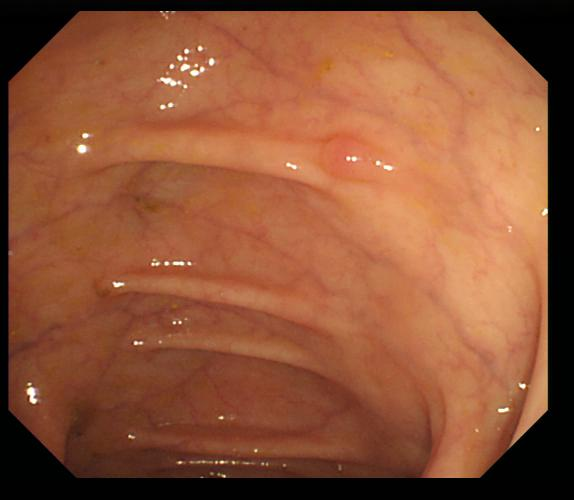polyp: (317, 127, 394, 186)
